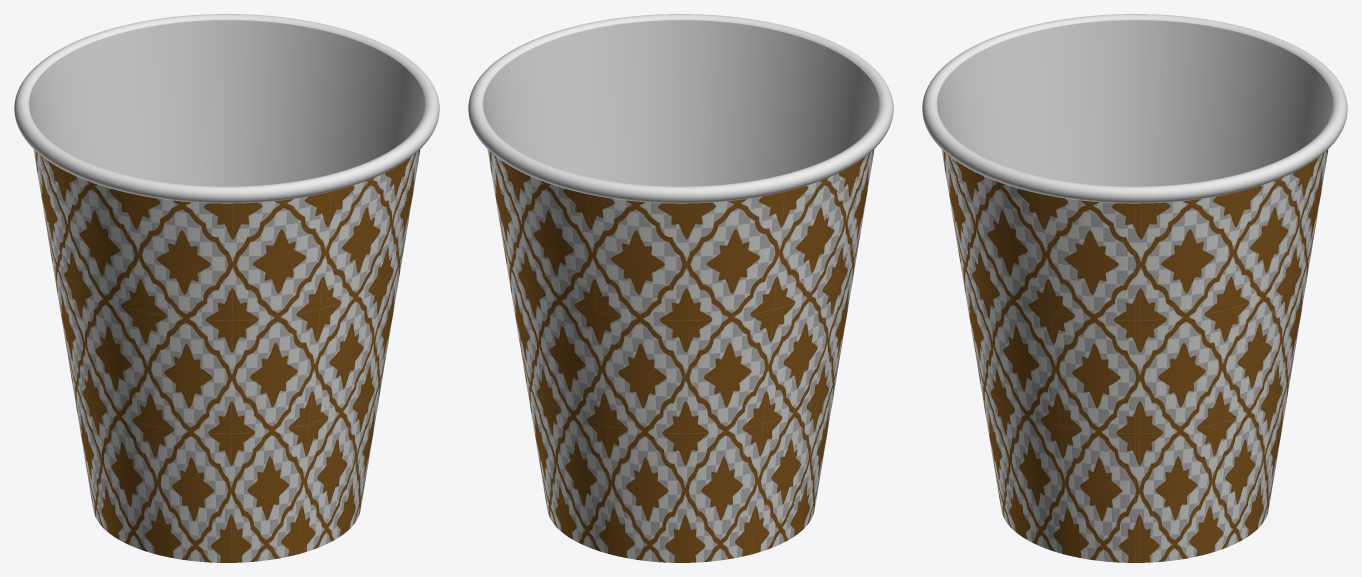
3 views of the same model, side by side, from view 1: azimuth 30°, elevation 25°; view 2: azimuth 150°, elevation 25°; view 3: azimuth 270°, elevation 25° (orthographic).
Parts seen in each view (by area): view 1: Part 1, Part 2; view 2: Part 1, Part 2; view 3: Part 1, Part 2.
Boxes of the visible parts, left/top/right/bottom form: Part 1: left=33, top=149, right=420, bottom=562; Part 2: left=14, top=14, right=439, bottom=203; Part 1: left=487, top=149, right=874, bottom=562; Part 2: left=468, top=14, right=893, bottom=203; Part 1: left=941, top=149, right=1328, bottom=562; Part 2: left=922, top=14, right=1347, bottom=203.
Size of the model in its own units: 0.0953 by 0.1002 by 0.0953.
2 materials, 1 textured.
